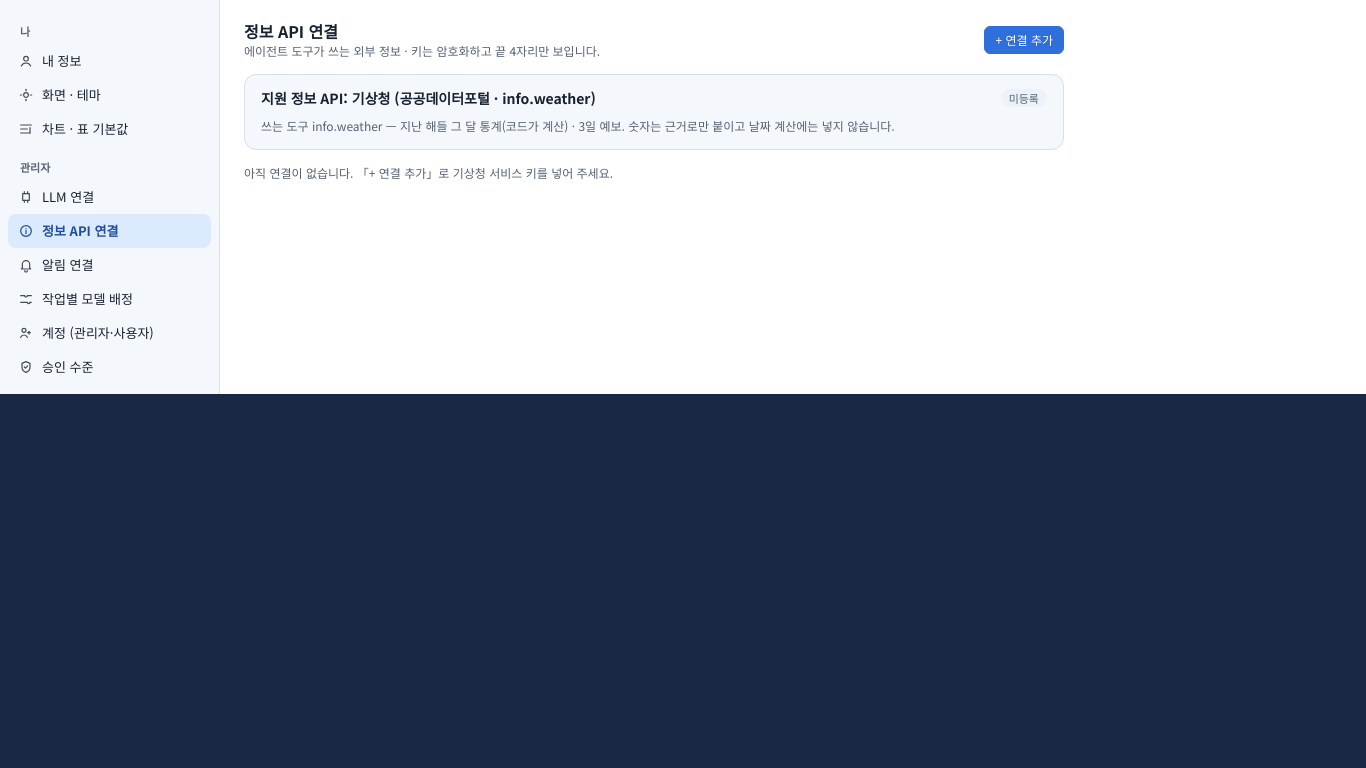
an empty templates list shows the same muted line
The image size is (1366, 768).
Click the button "+ 연결 추가" at point(1024, 40), box [984, 26, 1064, 54]
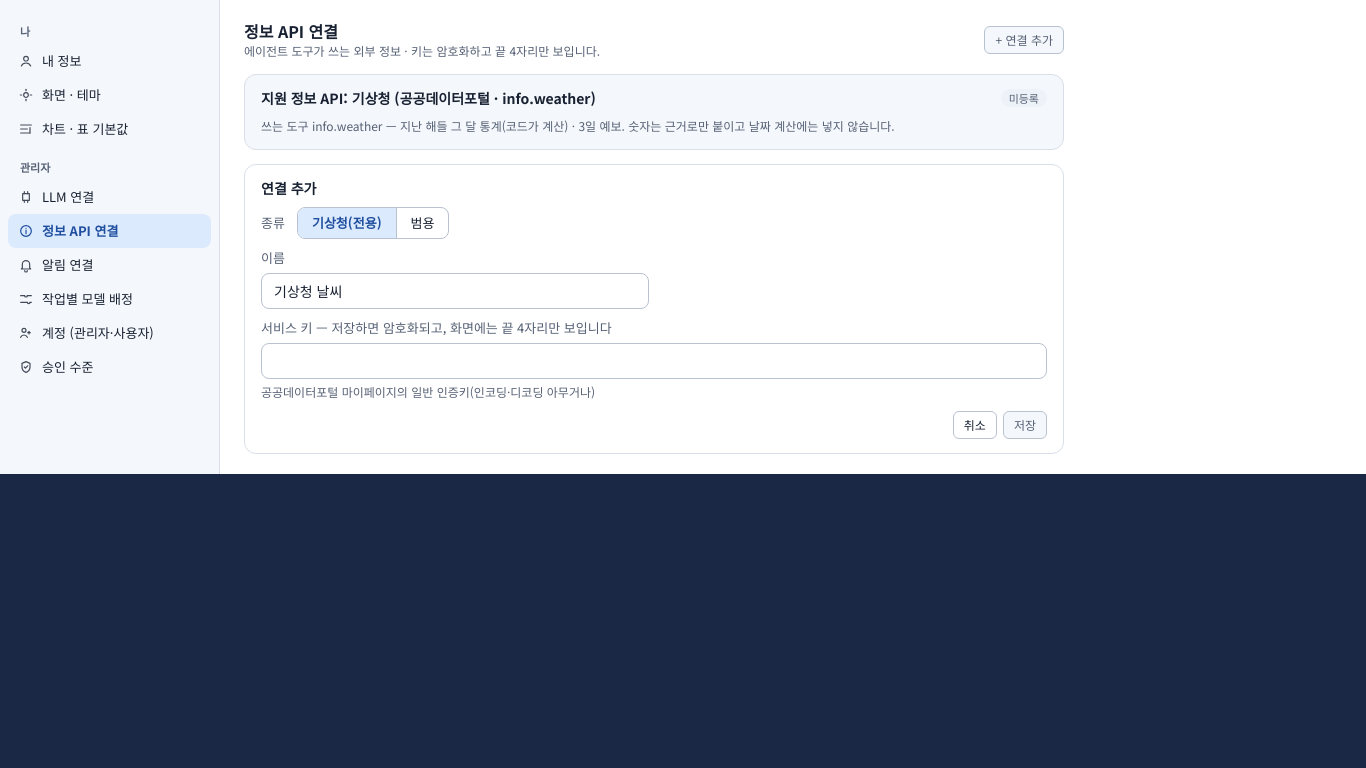
Click the radio button labelled "범용" at point(422, 223), box [396, 208, 448, 238]
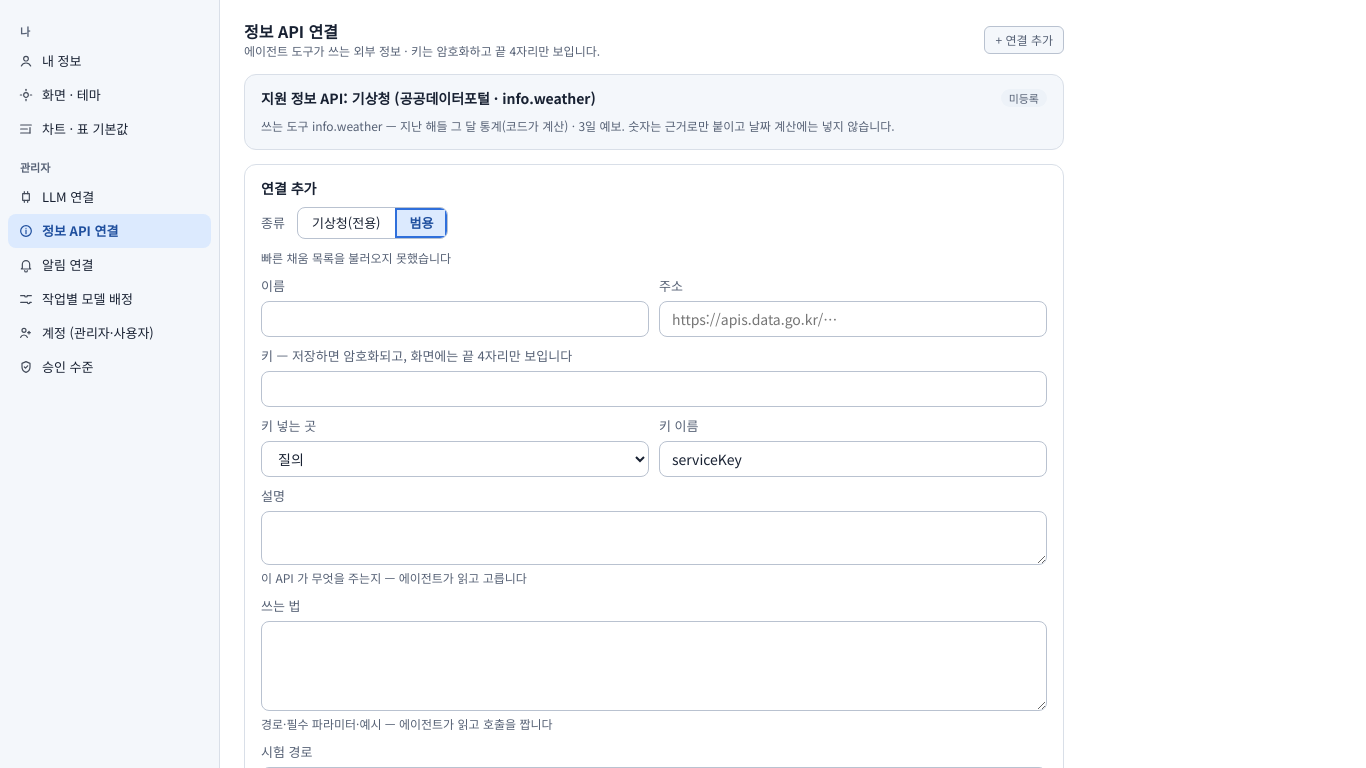
Now the text "빠른 채움 목록을 불러오지 못했습니다" is shown, box [261, 249, 451, 266]
